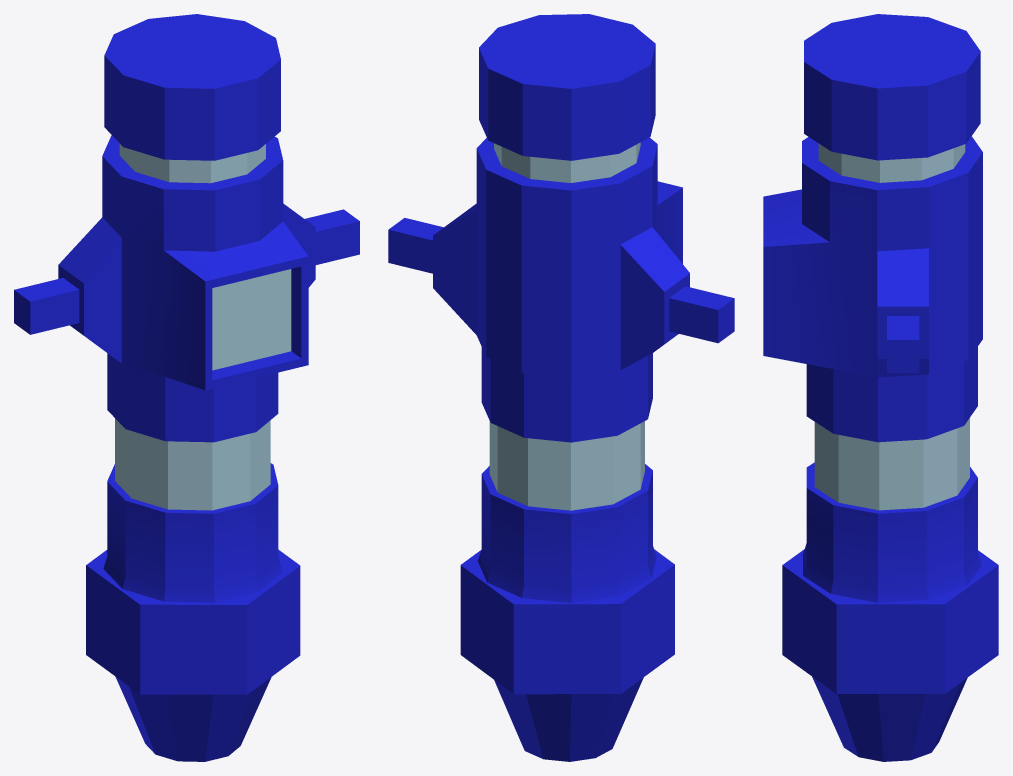
Rendered from emp.fbx.
3 views of the same model, side by side, from view 1: azimuth 30°, elevation 25°; view 2: azimuth 150°, elevation 25°; view 3: azimuth 270°, elevation 25° (orthographic).
Visible parts, largest first — view 1: Elec; view 2: Elec; view 3: Elec.
Boxes of the visible parts, bbox=[...] form: Elec: bbox=[14, 14, 359, 761]; Elec: bbox=[388, 14, 734, 761]; Elec: bbox=[763, 14, 998, 761].
Size of the model in its own units: 0.01 by 0.02 by 0.00618.
